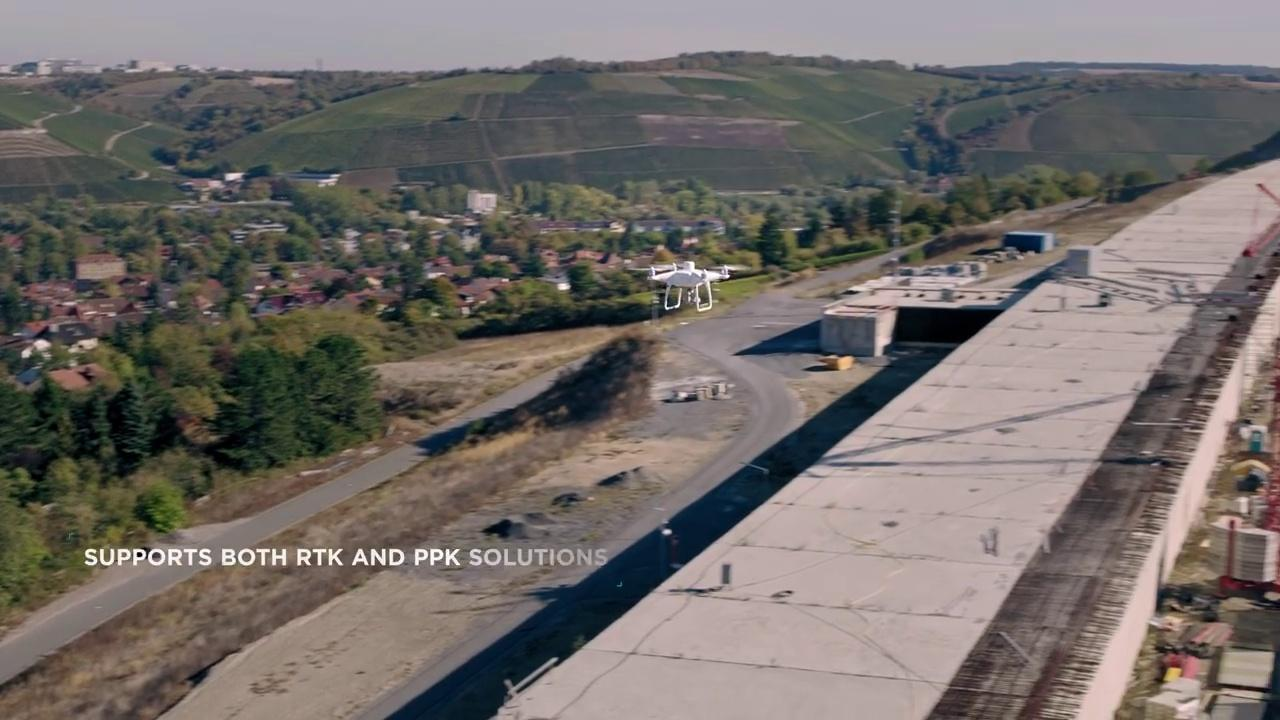drone: (624, 257, 750, 311)
